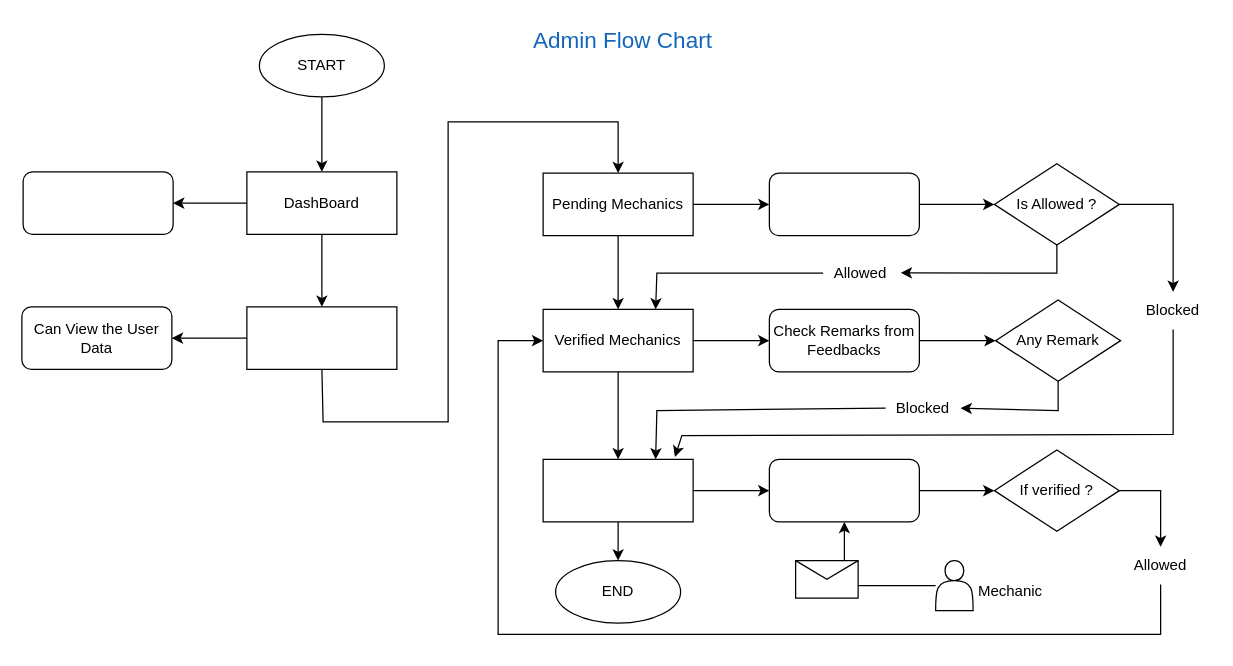
This 1233x666 diagram has some shape labels left out. Here are the shapes that lost their labels. From the top down, the centre of each, then its label:
At pixel 97 202: "Can View the Analysis".
At pixel 843 204: "Verify Mechanics based on the document ID".
At pixel 321 337: "User Details".
At pixel 617 490: "Blocked Mechanics".
At pixel 843 490: "Check Any mails regarding Proper Document".
